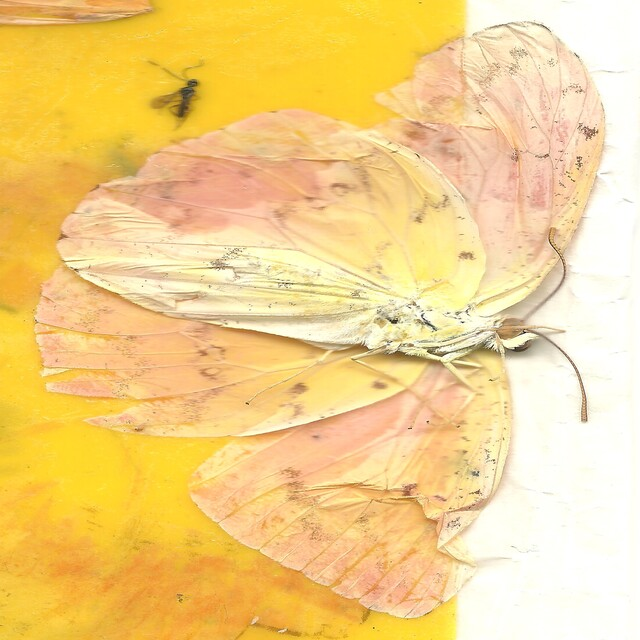Hymenoptera: (147, 60, 204, 130)
Lepidoptera: (32, 20, 608, 620)
